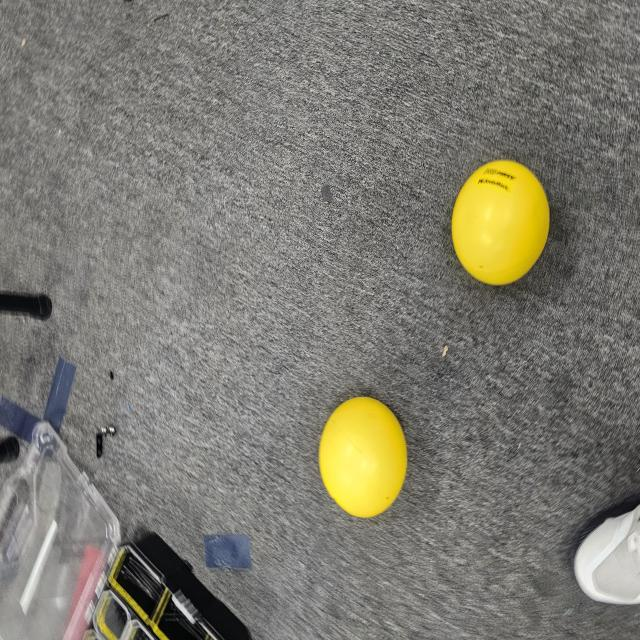Fuel: (446, 153, 559, 292), (312, 396, 419, 526)
